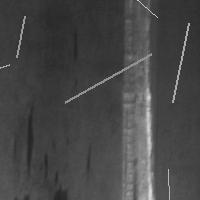scratches: (120, 1, 155, 199), (60, 49, 156, 107), (168, 18, 194, 107), (90, 0, 162, 22), (42, 152, 70, 200), (22, 102, 38, 177), (12, 11, 30, 62), (69, 29, 82, 65), (83, 139, 95, 178), (163, 164, 175, 200), (0, 60, 14, 81)
